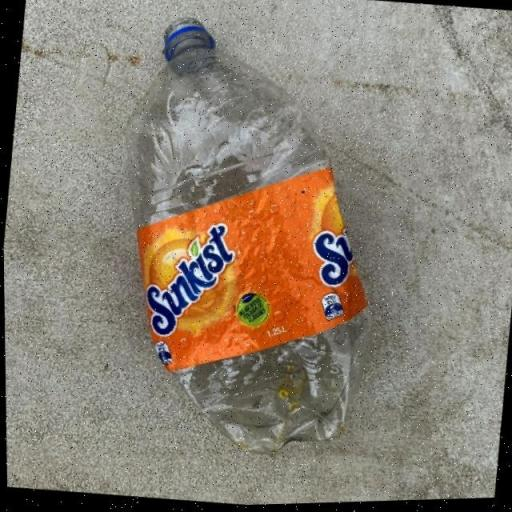plastic: (90, 7, 403, 470)
